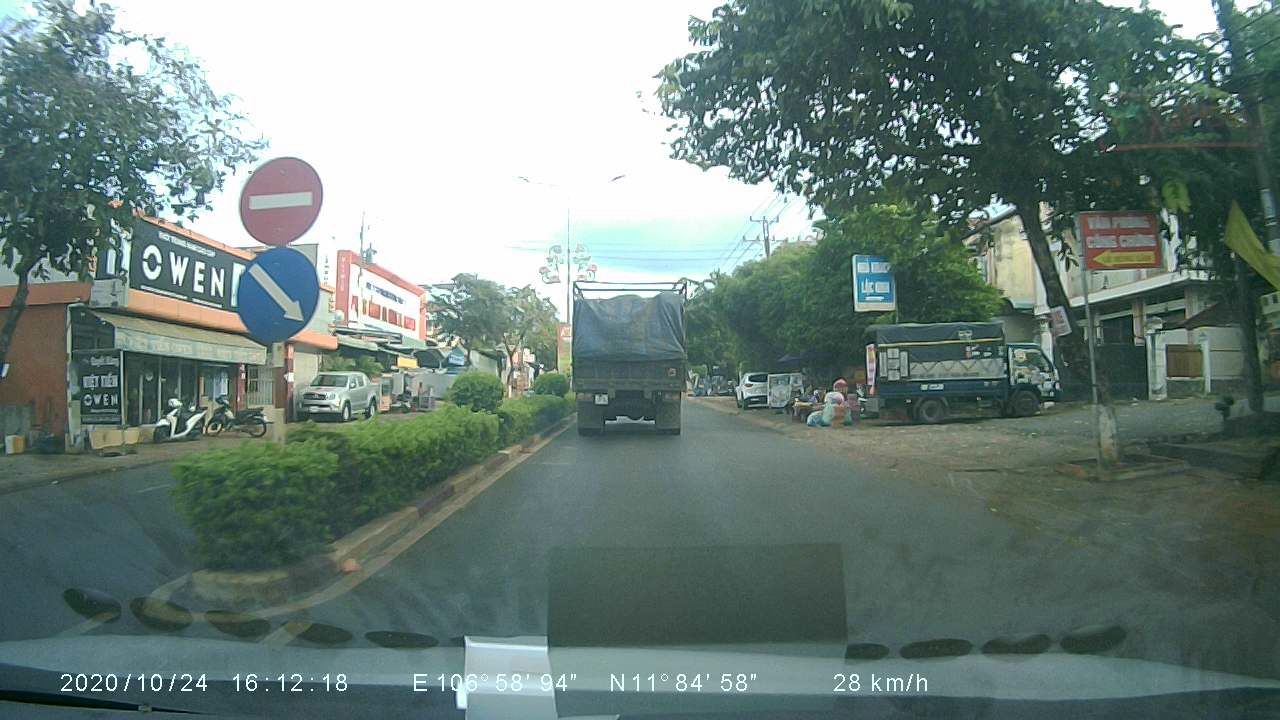Cam di nguoc chieu: (238, 155, 326, 247)
Huong di phai re phai: (238, 248, 318, 345)
